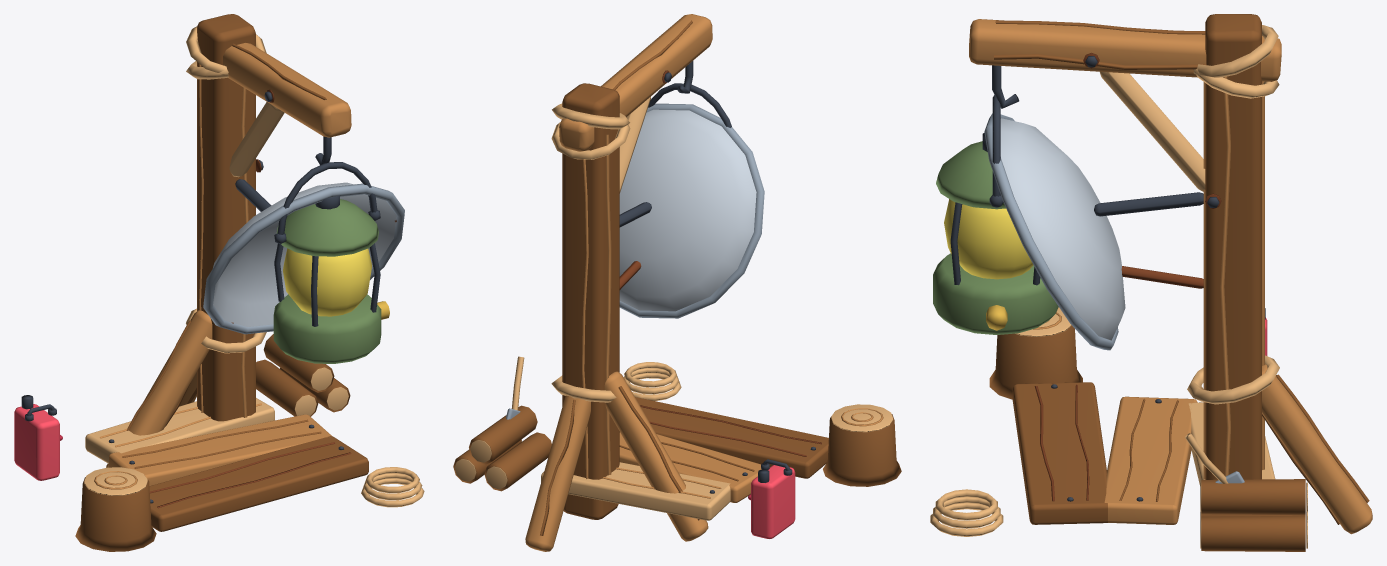
Rendered from HeatLamp_T1.fbx.
The picture shows the model from 3 angles, left to right: view 1: azimuth 30°, elevation 25°; view 2: azimuth 150°, elevation 25°; view 3: azimuth 270°, elevation 25°; orthographic projection. The views are drawn at different scales.
Visible parts, largest first — view 1: HeatLampT1Post, HeatLampT1Planks, HeatLampT1Junk, HeatLampT1Lantern, HeatLampT1Reflector, HeatLampT1LanternGlow; view 2: HeatLampT1Post, HeatLampT1Reflector, HeatLampT1Junk, HeatLampT1Planks, HeatLampT1Lantern; view 3: HeatLampT1Post, HeatLampT1Planks, HeatLampT1Reflector, HeatLampT1Junk, HeatLampT1Lantern, HeatLampT1LanternGlow.
Boxes of the visible parts, x1=… form: HeatLampT1Post: x1=106, y1=14, x2=351, y2=467; HeatLampT1Planks: x1=85, y1=398, x2=368, y2=531; HeatLampT1Junk: x1=14, y1=334, x2=424, y2=551; HeatLampT1Lantern: x1=273, y1=162, x2=389, y2=363; HeatLampT1Reflector: x1=203, y1=179, x2=404, y2=334; HeatLampT1LanternGlow: x1=283, y1=248, x2=371, y2=316; HeatLampT1Post: x1=525, y1=14, x2=712, y2=551; HeatLampT1Reflector: x1=619, y1=103, x2=764, y2=318; HeatLampT1Junk: x1=453, y1=356, x2=901, y2=538; HeatLampT1Planks: x1=541, y1=397, x2=828, y2=520; HeatLampT1Lantern: x1=648, y1=83, x2=731, y2=127; HeatLampT1Post: x1=969, y1=14, x2=1372, y2=534; HeatLampT1Planks: x1=1012, y1=382, x2=1275, y2=524; HeatLampT1Reflector: x1=984, y1=113, x2=1203, y2=350; HeatLampT1Junk: x1=930, y1=307, x2=1307, y2=551; HeatLampT1Lantern: x1=933, y1=95, x2=1058, y2=334; HeatLampT1LanternGlow: x1=944, y1=199, x2=1033, y2=279.
Size of the model in its own units: 133 by 162 by 127.
